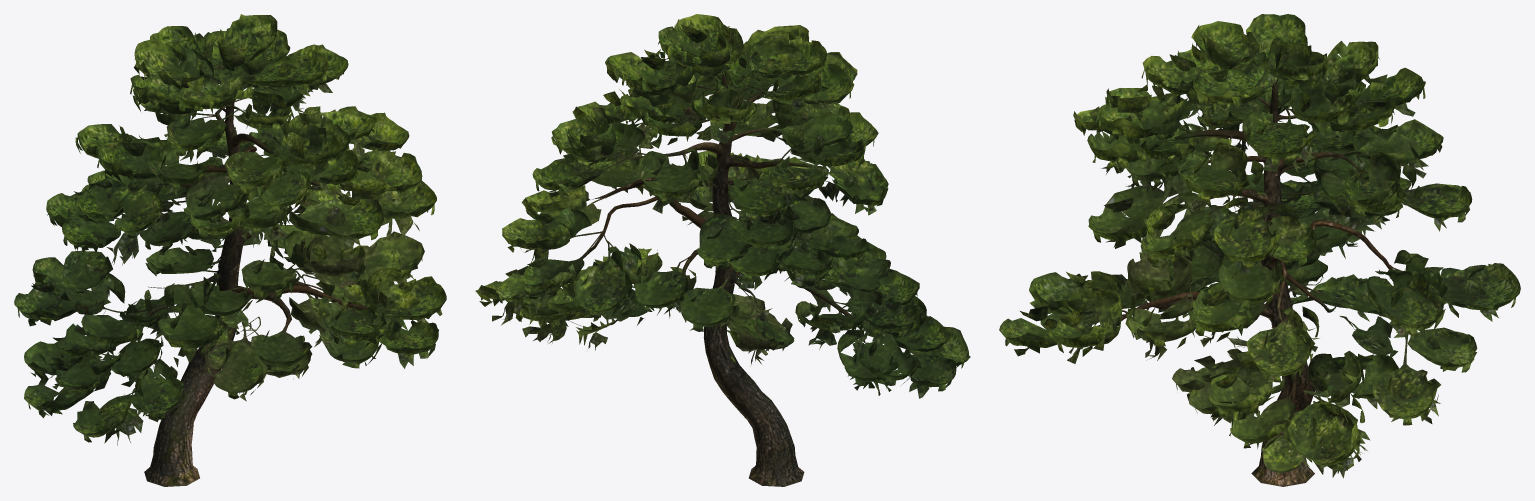
The model's file is tree_1.glb.
3 renders of one model, left to right at view 1: azimuth 30°, elevation 25°; view 2: azimuth 150°, elevation 25°; view 3: azimuth 270°, elevation 25°, orthographic. The views are drawn at different scales.
Visible parts, largest first — view 1: tripo_node_1a11c955-8a54-4ae9-926c-44db92288b20; view 2: tripo_node_1a11c955-8a54-4ae9-926c-44db92288b20; view 3: tripo_node_1a11c955-8a54-4ae9-926c-44db92288b20.
Boxes of the visible parts, left/top/right/bottom form: tripo_node_1a11c955-8a54-4ae9-926c-44db92288b20: left=14, top=14, right=446, bottom=486; tripo_node_1a11c955-8a54-4ae9-926c-44db92288b20: left=475, top=14, right=970, bottom=486; tripo_node_1a11c955-8a54-4ae9-926c-44db92288b20: left=999, top=14, right=1520, bottom=486.
Bounding box in the file's own units: 0.9995 × 0.9907 × 0.9995.
Materials: 1 (1 with a texture image).
